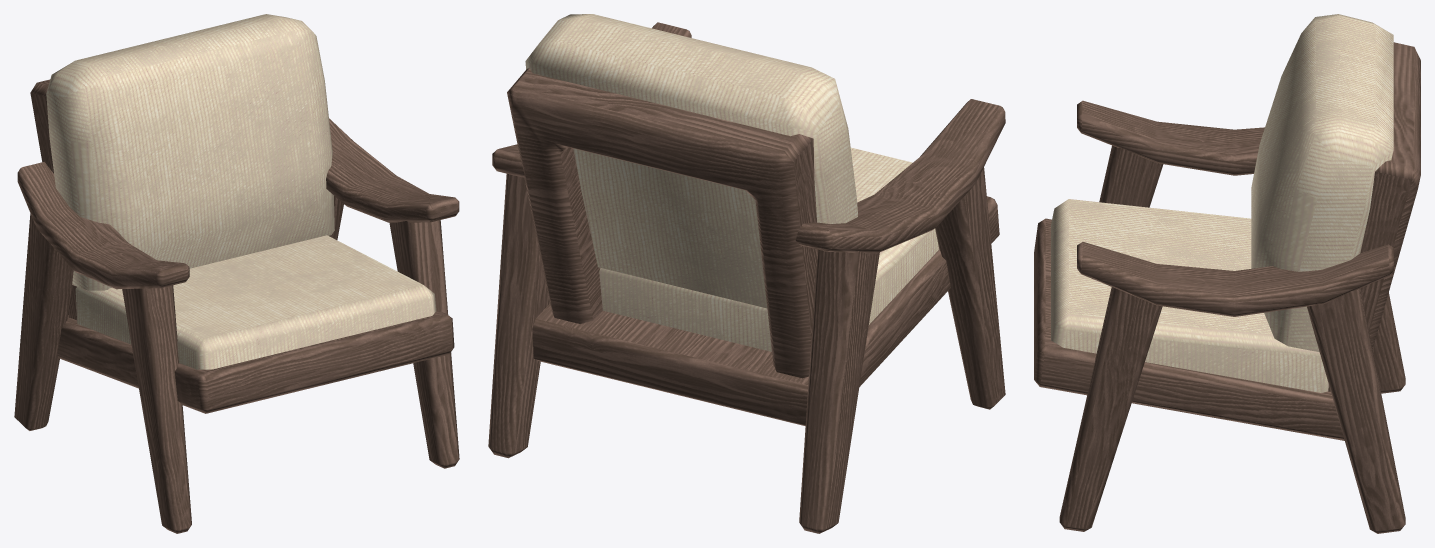
The model's file is chair_047.fbx.
The picture shows the model from 3 angles, left to right: view 1: azimuth 30°, elevation 25°; view 2: azimuth 150°, elevation 25°; view 3: azimuth 270°, elevation 25°; orthographic projection. The views are drawn at different scales.
Parts seen in each view (by area): view 1: chair_047; view 2: chair_047; view 3: chair_047.
Part boxes in pixels (x1,y1,x2,y2): chair_047: [14, 14, 459, 533]; chair_047: [488, 14, 1005, 533]; chair_047: [1034, 14, 1420, 533].
Size of the model in its own units: 112 by 107 by 120.
